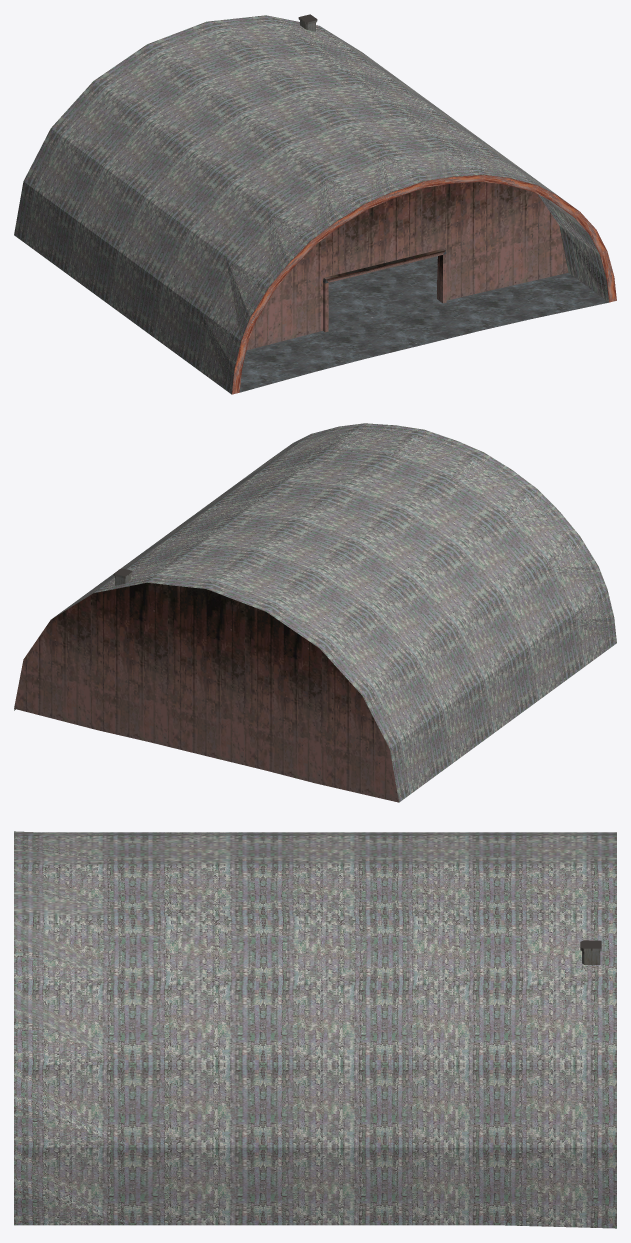
The model's file is cuntwjunk06.obj.
3 views of the same model, one above another, from view 1: azimuth 30°, elevation 25°; view 2: azimuth 150°, elevation 25°; view 3: azimuth 270°, elevation 25° (orthographic). The views are drawn at different scales.
Parts seen in each view (by area): view 1: cuntwjunk06; view 2: cuntwjunk06; view 3: cuntwjunk06.
Boxes of the visible parts, box(x1,y1,x2,y2) form: cuntwjunk06: box(14, 14, 616, 394); cuntwjunk06: box(14, 423, 616, 802); cuntwjunk06: box(14, 831, 616, 1228).
Size of the model in its own units: 30.09 by 12.75 by 29.48.
10 materials, 10 textured.
